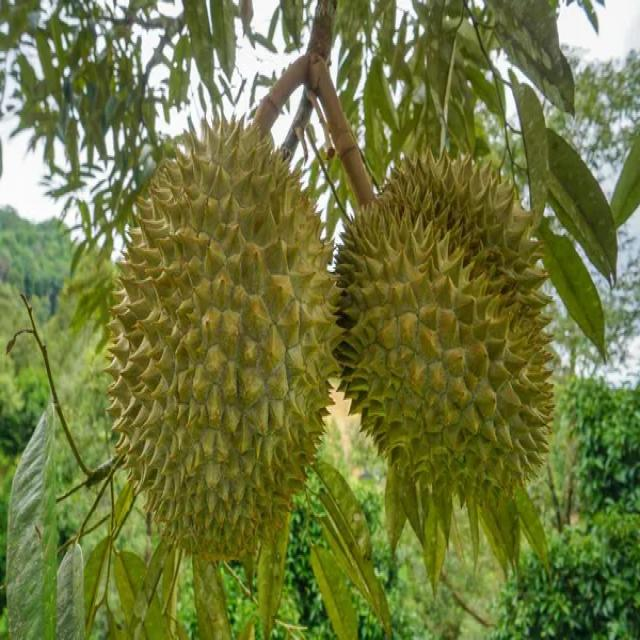immature: (98, 121, 344, 551), (334, 149, 560, 513)
